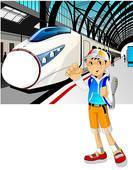person: (62, 47, 129, 166)
train: (1, 24, 123, 93)
